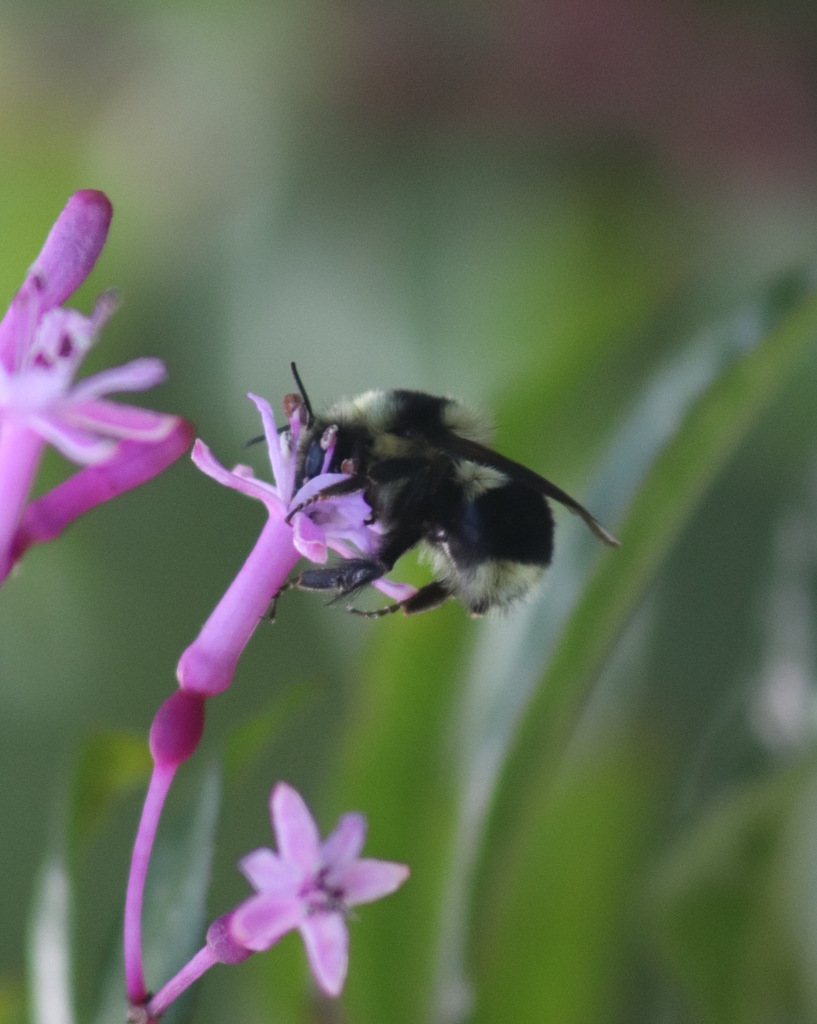bumblebee: (242, 360, 621, 624)
